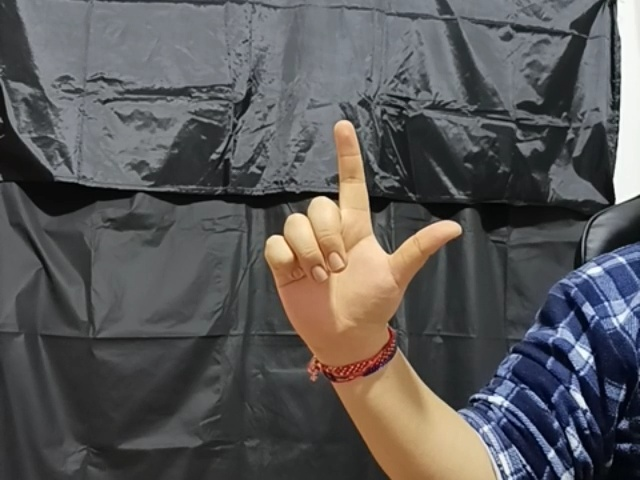L: (264, 116, 465, 335)
